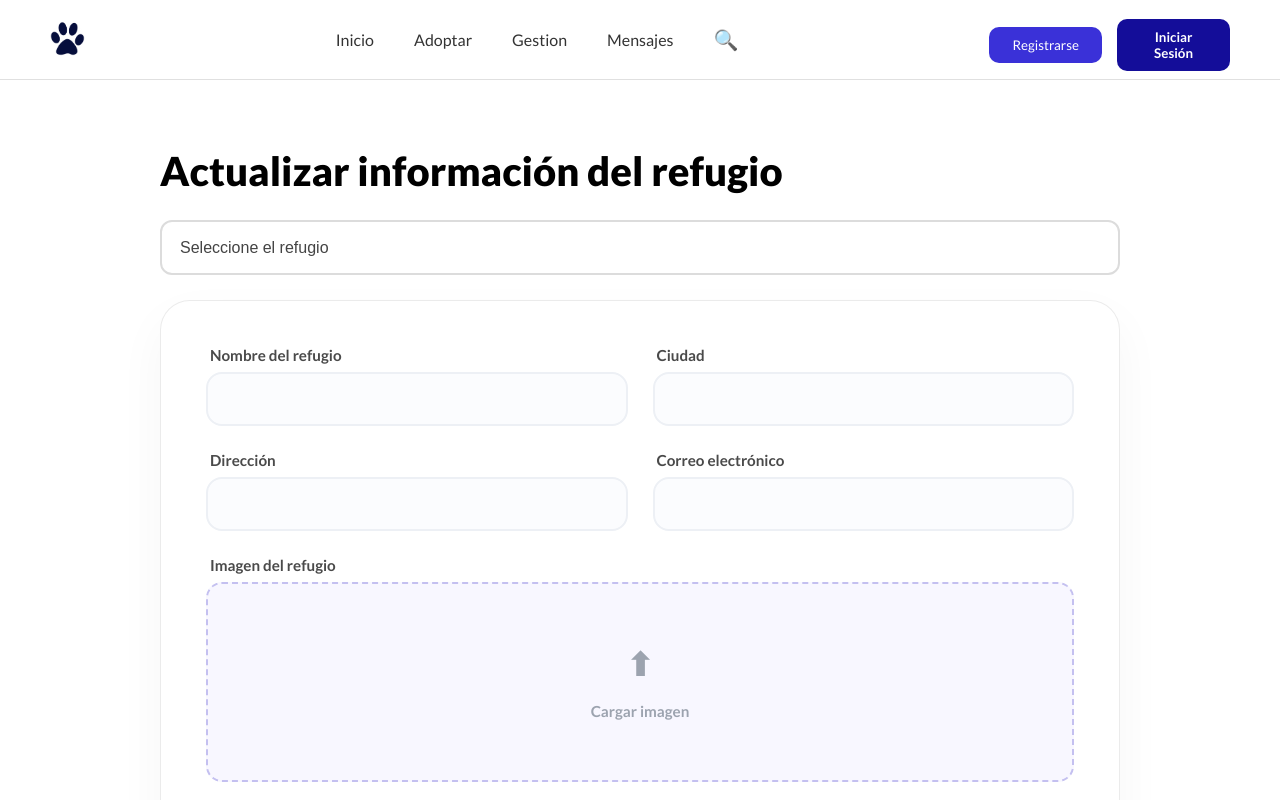
it: EditShelter Page › carga los datos del refugio al seleccionarlo
Select "Huellitas" in the dropdown at (640, 248), box [160,220,1120,275]
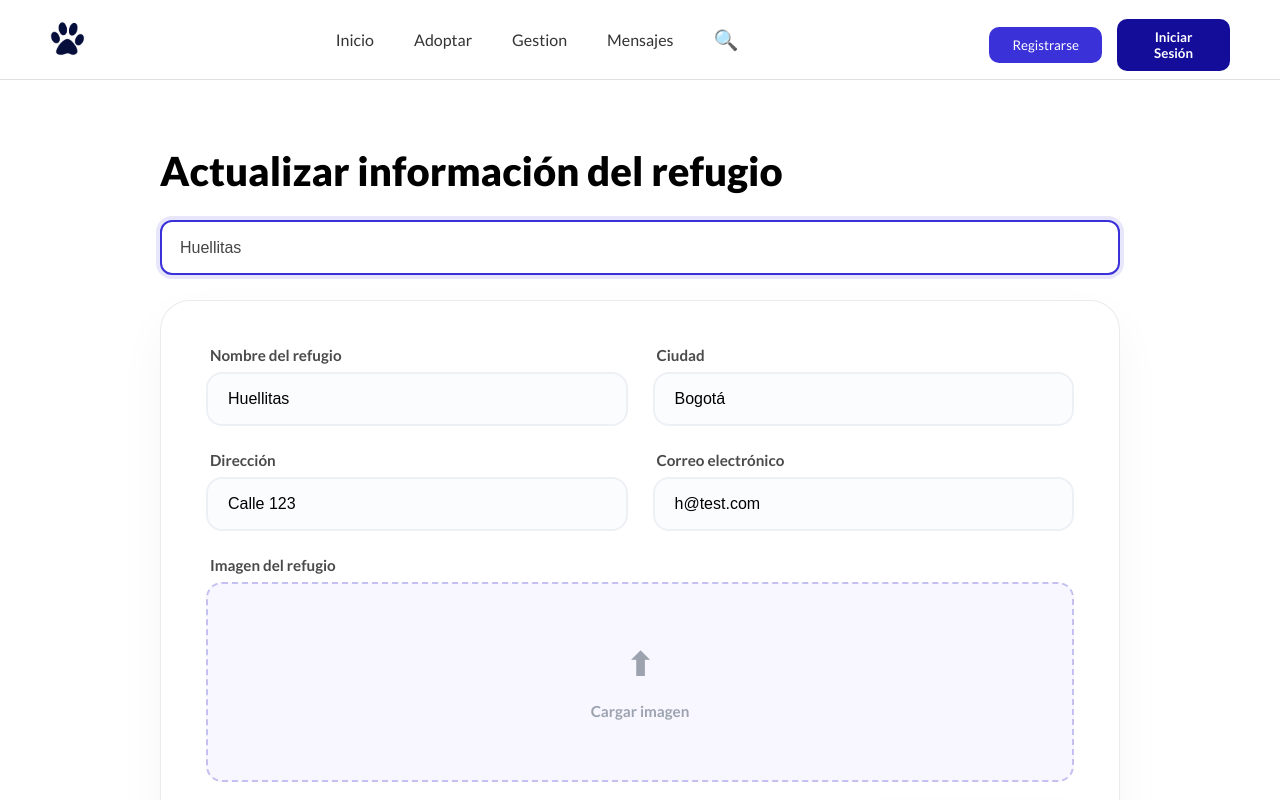
Expected: the field named "name" below "Nombre del refugio" holds "Huellitas", [206,372,628,426]
Expected: the field named "city" below "Ciudad" holds "Bogotá", [653,372,1075,426]
